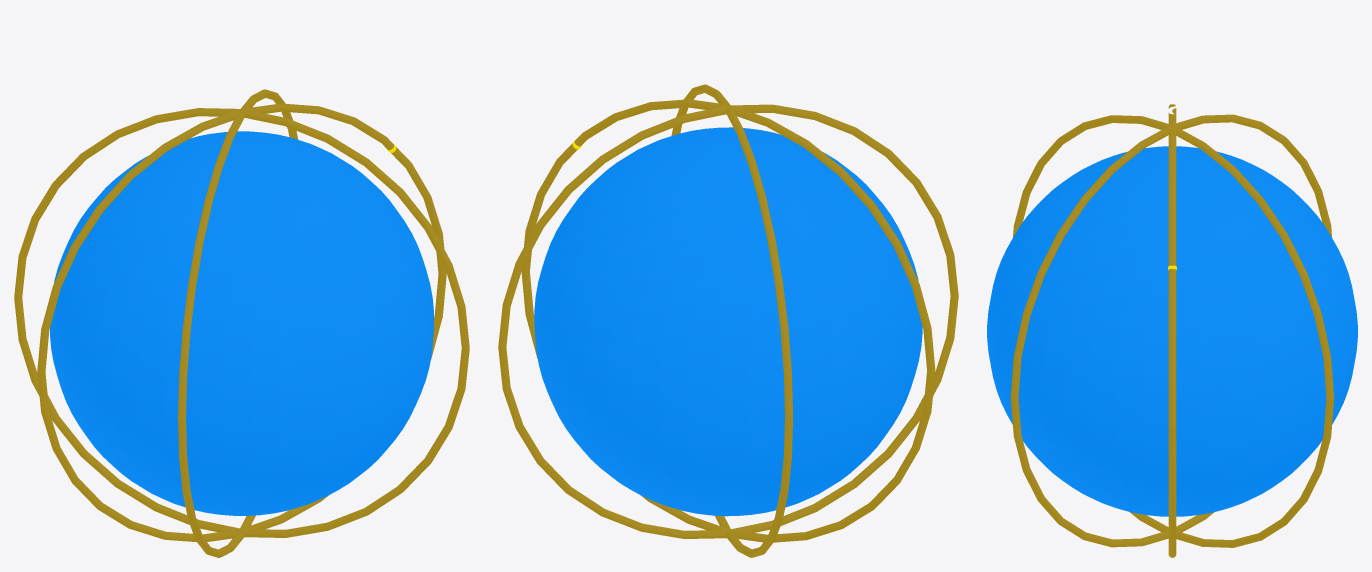
The model's file is middleblobe.glb.
The picture shows the model from 3 angles, left to right: view 1: azimuth 30°, elevation 25°; view 2: azimuth 150°, elevation 25°; view 3: azimuth 270°, elevation 25°; orthographic projection. The views are drawn at different scales.
Parts seen in each view (by area): view 1: Sphere, Torus.005, Torus.001, Torus.006, Zochi.Space; view 2: Sphere, Torus.006, Torus.001, Torus.005, Zochi.Space; view 3: Sphere, Torus.005, Torus.006, Torus.001, Zochi.Space.
Boxes of the visible parts, bbox=[...] form: Sphere: bbox=[50, 131, 433, 515]; Torus.005: bbox=[14, 108, 469, 537]; Torus.001: bbox=[37, 103, 446, 541]; Torus.006: bbox=[178, 89, 298, 557]; Zochi.Space: bbox=[116, 14, 349, 71]; Sphere: bbox=[534, 127, 922, 516]; Torus.006: bbox=[498, 104, 958, 538]; Torus.001: bbox=[521, 99, 935, 542]; Torus.005: bbox=[671, 84, 792, 557]; Zochi.Space: bbox=[613, 14, 834, 82]; Sphere: bbox=[987, 146, 1357, 516]; Torus.005: bbox=[1010, 114, 1331, 547]; Torus.006: bbox=[1013, 115, 1334, 547]; Torus.001: bbox=[1168, 104, 1176, 557]; Zochi.Space: bbox=[1159, 14, 1210, 114].
Bounding box in the file's own units: 6.82 × 7.84 × 5.56.
